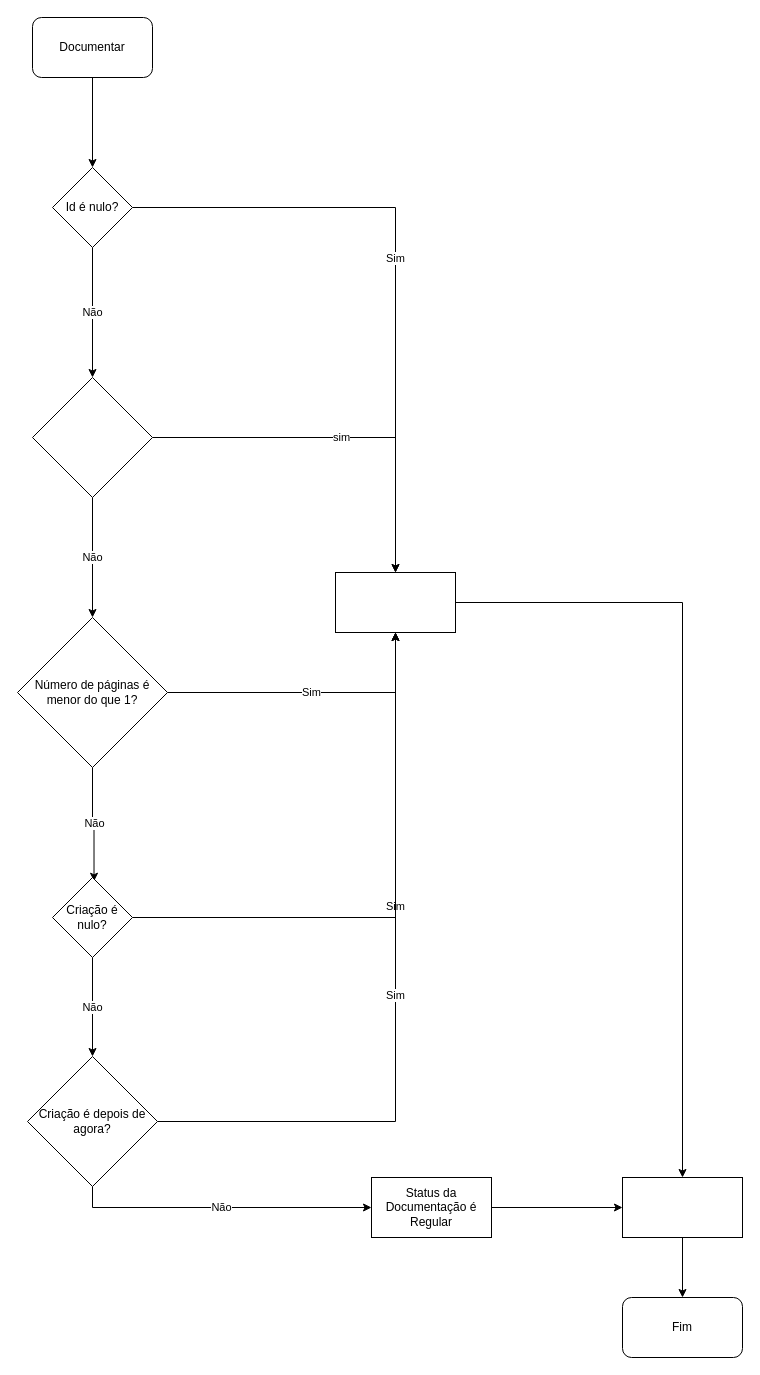
This 760x1375 diagram has some shape labels left out. Each missing label, with the centre of its shape:
"Id é vazio ou em branco?" belongs at (92,437).
"Retorne Status da Documentação" belongs at (682,1207).
"Status da Documentação é Irregular" belongs at (395,602).
